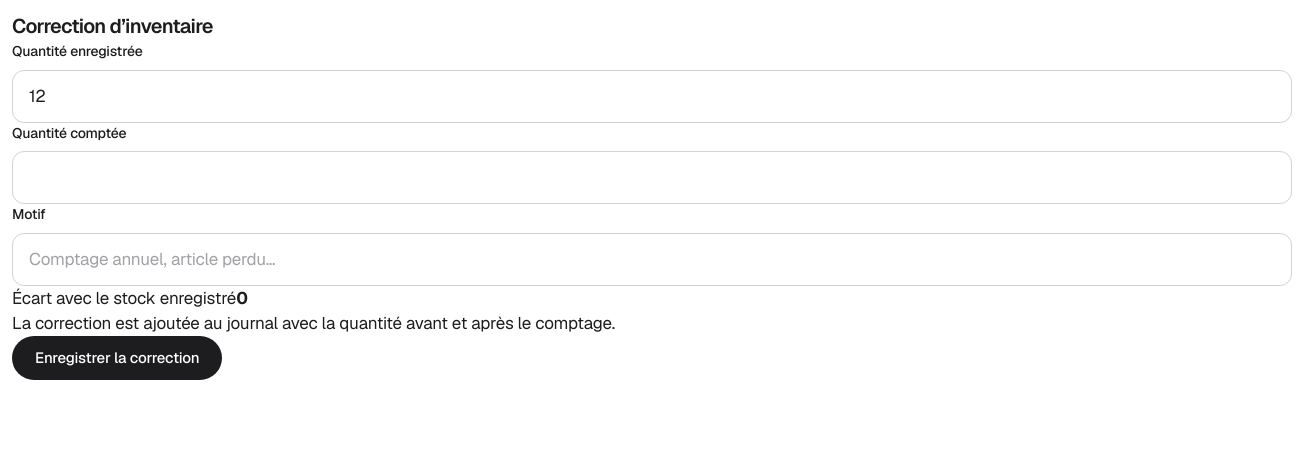
FormulaireInventaire › affiche les erreurs du serveur sous chaque champ
The image size is (1304, 454).
Step 1. Type "-1" into the number field labelled "Quantité comptée" → (652, 178), box [12,151,1292,204]
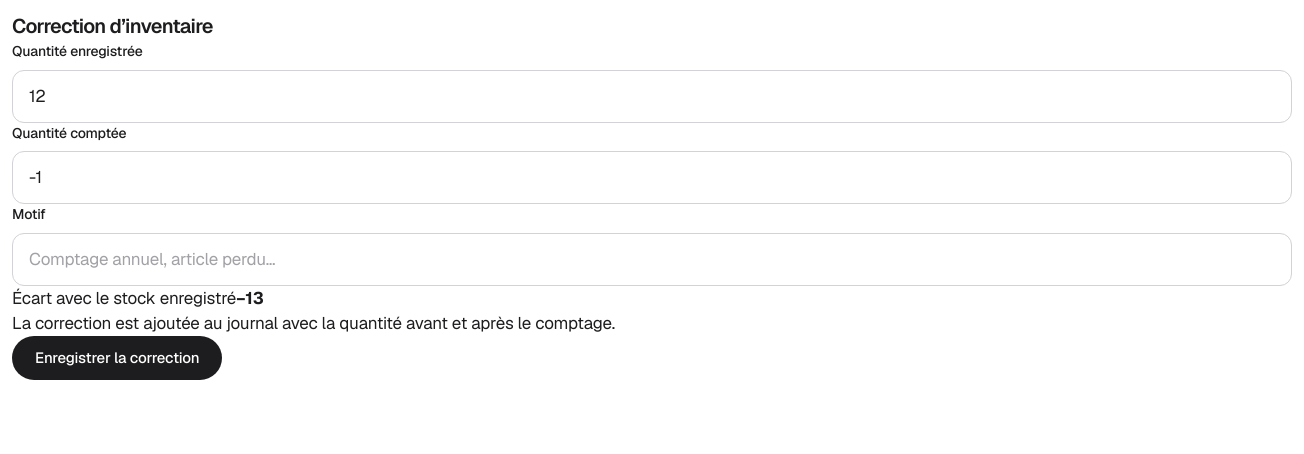
Step 2. Click the button "Enregistrer la correction" → (117, 358), box [12,336,222,380]
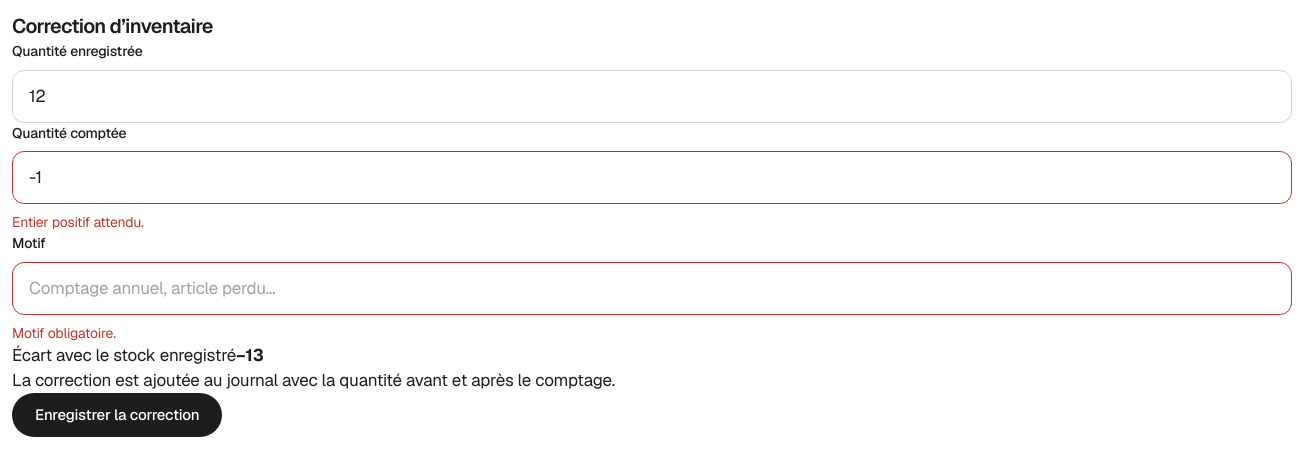
Result: the text "Entier positif attendu." is shown at [12,213,144,231]
Result: the text "Motif obligatoire." is shown at [12,324,116,342]
